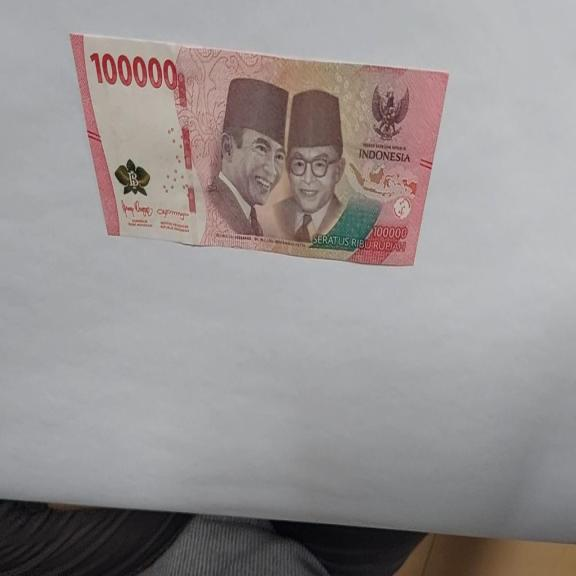Kertas: (70, 31, 450, 267), (88, 49, 179, 91)
